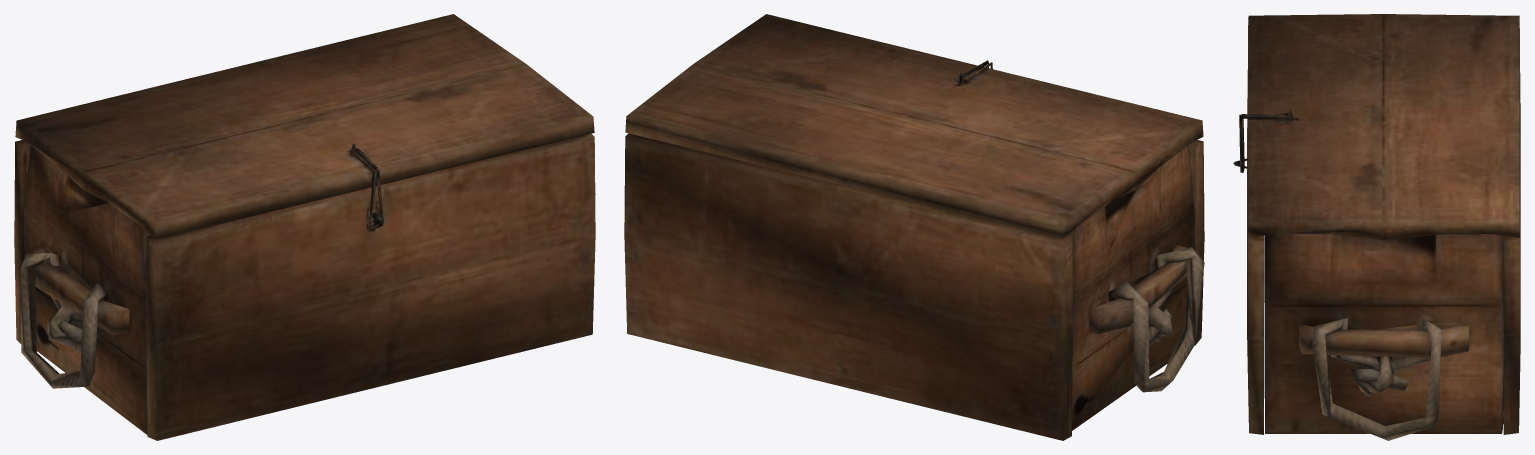
The model's file is crate.glb.
3 views of the same model, side by side, from view 1: azimuth 30°, elevation 25°; view 2: azimuth 150°, elevation 25°; view 3: azimuth 270°, elevation 25° (orthographic). The views are drawn at different scales.
Visible parts, largest first — view 1: lo; view 2: lo; view 3: lo.
Part boxes in pixels (<box>): lo: <box>14,14,595,440</box>; lo: <box>624,14,1204,440</box>; lo: <box>1233,14,1520,440</box>.
Size of the model in its own units: 0.8222 by 0.3524 by 0.4081.
1 material, 1 textured.
